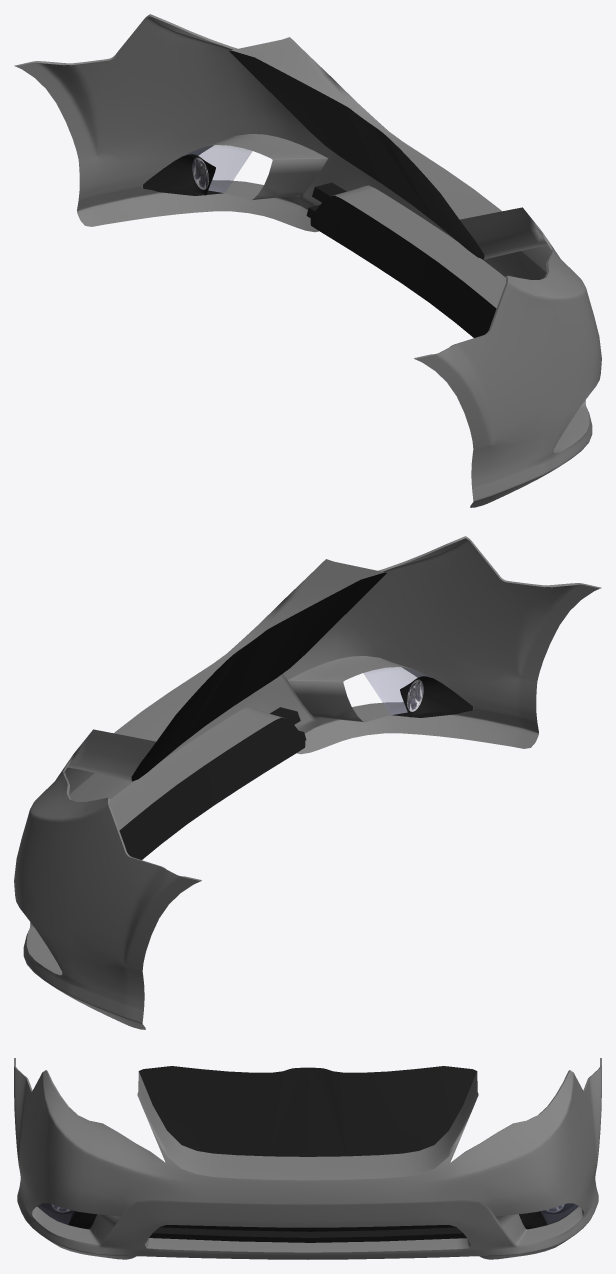
The picture shows the model from 3 angles, top to bottom: view 1: azimuth 30°, elevation 25°; view 2: azimuth 150°, elevation 25°; view 3: azimuth 270°, elevation 25°; orthographic projection. The views are drawn at different scales.
Parts seen in each view (by area): view 1: Y156_021G_C_Y156_021G_C_4_DaS, Y156_021G_C_Y156_021G_C_4_DaS_E, Y156_021G_C_Y156_021G_C_2_D, Y156_021G_C_1_D_Y156_021G_C, Y156_021G_C_Y156_021G_C_8_DTaSI; view 2: Y156_021G_C_Y156_021G_C_4_DaS, Y156_021G_C_Y156_021G_C_4_DaS_E, Y156_021G_C_Y156_021G_C_2_D, Y156_021G_C_1_D_Y156_021G_C, Y156_021G_C_Y156_021G_C_7_DTaSI; view 3: Y156_021G_C_Y156_021G_C_4_DaS, Y156_021G_C_Y156_021G_C_2_D, Y156_021G_C_Y156_021G_C_4_DaS_E, Y156_021G_C_Y156_021G_C_3_D, Y156_021G_C_1_D_Y156_021G_C, Y156_021G_C_Y156_021G_C_7_DTaSI, Y156_021G_C_Y156_021G_C_8_DTaSI.
Part boxes in pixels (x1,y1,x2,y2): Y156_021G_C_Y156_021G_C_4_DaS: (16, 16, 601, 507); Y156_021G_C_Y156_021G_C_4_DaS_E: (14, 14, 589, 453); Y156_021G_C_Y156_021G_C_2_D: (229, 50, 496, 337); Y156_021G_C_1_D_Y156_021G_C: (142, 154, 223, 195); Y156_021G_C_Y156_021G_C_8_DTaSI: (142, 145, 252, 192); Y156_021G_C_Y156_021G_C_4_DaS: (14, 538, 599, 1029); Y156_021G_C_Y156_021G_C_4_DaS_E: (26, 536, 601, 975); Y156_021G_C_Y156_021G_C_2_D: (119, 572, 386, 859); Y156_021G_C_1_D_Y156_021G_C: (392, 676, 473, 717); Y156_021G_C_Y156_021G_C_7_DTaSI: (363, 667, 473, 714); Y156_021G_C_Y156_021G_C_4_DaS: (14, 1066, 601, 1259); Y156_021G_C_Y156_021G_C_2_D: (68, 1066, 547, 1231); Y156_021G_C_Y156_021G_C_4_DaS_E: (14, 1058, 601, 1252); Y156_021G_C_Y156_021G_C_3_D: (149, 1225, 466, 1242); Y156_021G_C_1_D_Y156_021G_C: (37, 1203, 578, 1224); Y156_021G_C_Y156_021G_C_7_DTaSI: (37, 1203, 74, 1224); Y156_021G_C_Y156_021G_C_8_DTaSI: (541, 1203, 578, 1224).
Bounding box in the file's own units: 76.15 × 63.31 × 199.
